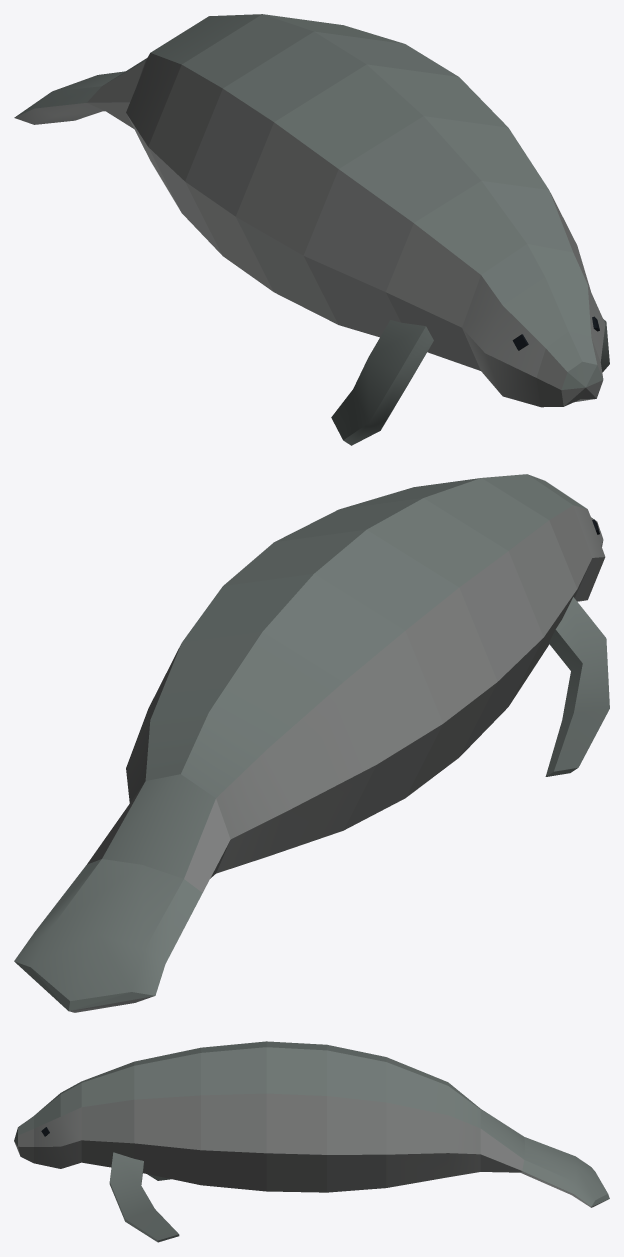
The model's file is Mesh_Manatee.obj.
The picture shows the model from 3 angles, top to bottom: view 1: azimuth 30°, elevation 25°; view 2: azimuth 150°, elevation 25°; view 3: azimuth 270°, elevation 25°; orthographic projection. The views are drawn at different scales.
Parts seen in each view (by area): view 1: Geo_Manatee; view 2: Geo_Manatee; view 3: Geo_Manatee.
Boxes of the visible parts, x1,y1,x2,y2 form: Geo_Manatee: [14, 14, 609, 445]; Geo_Manatee: [14, 474, 609, 1012]; Geo_Manatee: [14, 1041, 609, 1242].
Bounding box in the file's own units: 56.3 × 58.68 × 193.
